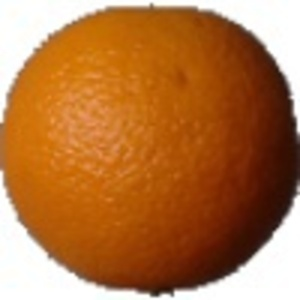laranja: (3, 2, 297, 292)
